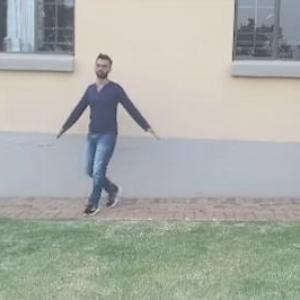land: (60, 59, 167, 222)
